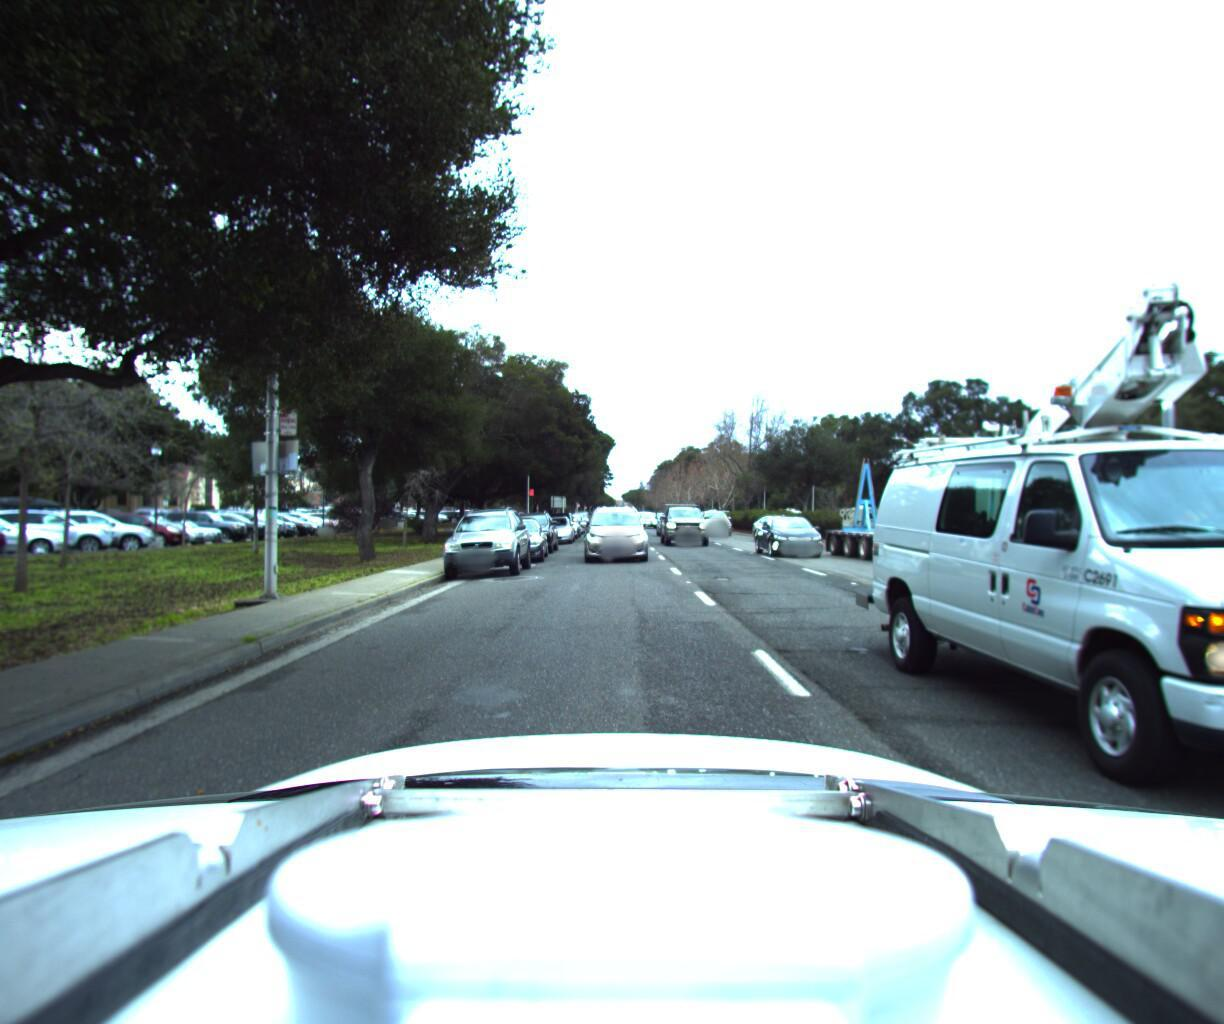car: (442, 496, 533, 576), (584, 494, 651, 556), (481, 507, 549, 560), (756, 505, 830, 550), (501, 500, 560, 548), (658, 493, 711, 540), (744, 509, 805, 539), (535, 506, 576, 539), (698, 502, 734, 528)
other_vehicle: (827, 221, 1224, 824)
truck: (828, 348, 1224, 649)
